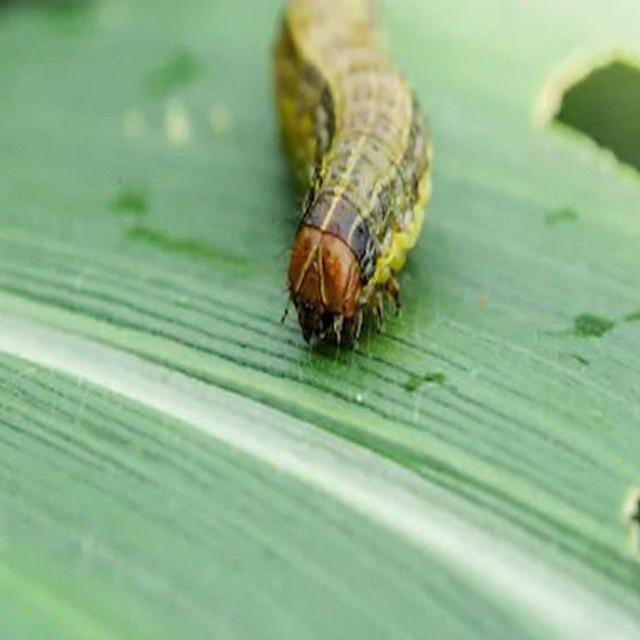worm: (270, 1, 435, 357)
